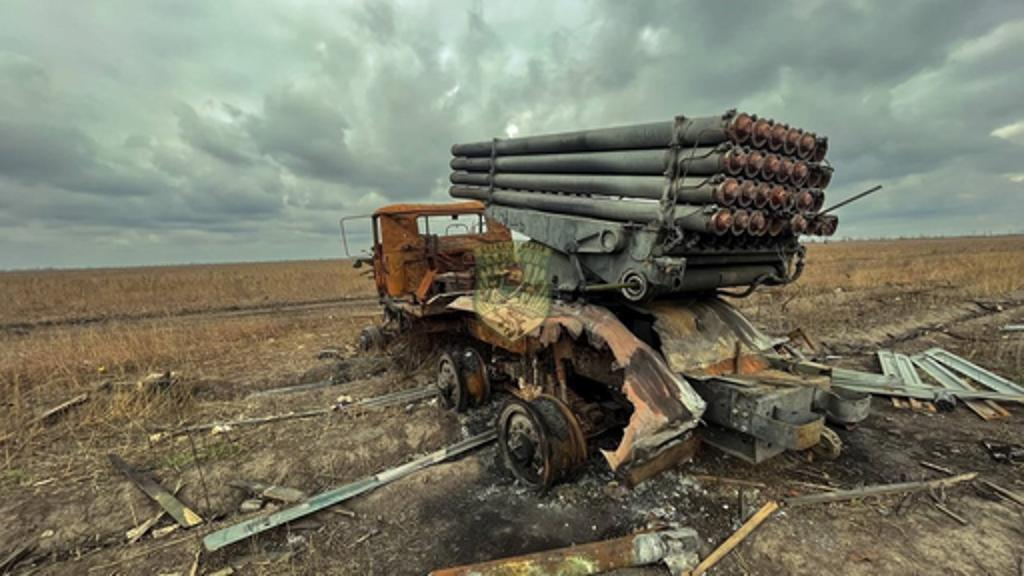MLRS: (358, 106, 842, 496)
